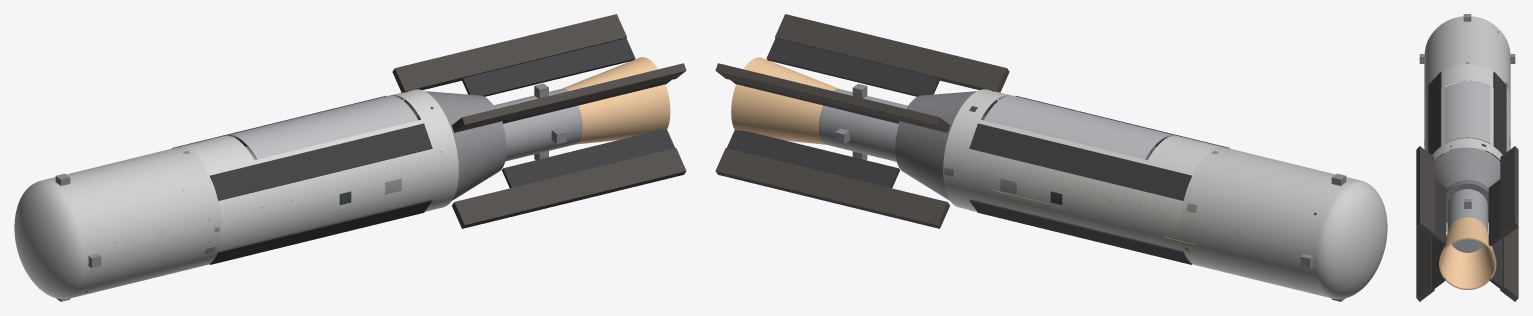
The model's file is wayfarer_I4_in_out_faf75e0d.glb.
The picture shows the model from 3 angles, left to right: view 1: azimuth 30°, elevation 25°; view 2: azimuth 150°, elevation 25°; view 3: azimuth 270°, elevation 25°; orthographic projection. The views are drawn at different scales.
Visible parts, largest first — view 1: Exterior, crown closed/hull_armor, Exterior, crown closed/radiator, Exterior, crown closed/hotfin, Exterior, crown closed/hull_skin, Exterior, crown closed/door, Exterior, crown closed/nozzle, Exterior, crown closed/thrust_cone, Exterior, crown closed/reactor, Exterior, crown closed/rcs; view 2: Exterior, crown closed/hull_armor, Exterior, crown closed/radiator, Exterior, crown closed/hotfin, Exterior, crown closed/hull_skin, Exterior, crown closed/door, Exterior, crown closed/nozzle, Exterior, crown closed/thrust_cone, Exterior, crown closed/reactor, Exterior, crown closed/rcs; view 3: Exterior, crown closed/hotfin, Exterior, crown closed/radiator, Exterior, crown closed/hull_armor, Exterior, crown closed/nozzle, Exterior, crown closed/door, Exterior, crown closed/hull_skin, Exterior, crown closed/thrust_cone, Exterior, crown closed/reactor, Exterior, crown closed/shield, Exterior, crown closed/rcs.
Boxes of the visible parts, left/top/right/bottom form: Exterior, crown closed/hull_armor: left=14, top=147, right=221, bottom=299; Exterior, crown closed/radiator: left=172, top=38, right=674, bottom=264; Exterior, crown closed/hotfin: left=392, top=14, right=686, bottom=228; Exterior, crown closed/hull_skin: left=178, top=89, right=458, bottom=264; Exterior, crown closed/door: left=226, top=95, right=417, bottom=159; Exterior, crown closed/nozzle: left=562, top=57, right=670, bottom=144; Exterior, crown closed/thrust_cone: left=404, top=91, right=506, bottom=200; Exterior, crown closed/reactor: left=494, top=88, right=582, bottom=161; Exterior, crown closed/rcs: left=55, top=83, right=566, bottom=301; Exterior, crown closed/hull_armor: left=1180, top=147, right=1387, bottom=299; Exterior, crown closed/radiator: left=727, top=38, right=1229, bottom=264; Exterior, crown closed/hotfin: left=715, top=14, right=1009, bottom=228; Exterior, crown closed/hull_skin: left=943, top=89, right=1223, bottom=264; Exterior, crown closed/door: left=984, top=95, right=1175, bottom=159; Exterior, crown closed/nozzle: left=731, top=57, right=838, bottom=144; Exterior, crown closed/thrust_cone: left=895, top=91, right=997, bottom=200; Exterior, crown closed/reactor: left=818, top=89, right=907, bottom=161; Exterior, crown closed/rcs: left=835, top=84, right=1346, bottom=301; Exterior, crown closed/hotfin: left=1416, top=146, right=1518, bottom=301; Exterior, crown closed/radiator: left=1428, top=72, right=1506, bottom=289; Exterior, crown closed/hull_armor: left=1424, top=16, right=1510, bottom=100; Exterior, crown closed/nozzle: left=1439, top=217, right=1496, bottom=289; Exterior, crown closed/door: left=1444, top=81, right=1490, bottom=143; Exterior, crown closed/hull_skin: left=1424, top=64, right=1510, bottom=159; Exterior, crown closed/thrust_cone: left=1434, top=147, right=1500, bottom=222; Exterior, crown closed/reactor: left=1447, top=189, right=1487, bottom=252; Exterior, crown closed/shield: left=1446, top=180, right=1488, bottom=222; Exterior, crown closed/rcs: left=1419, top=14, right=1515, bottom=231.
Size of the model in its own units: 53.3 by 10 by 10.73.
